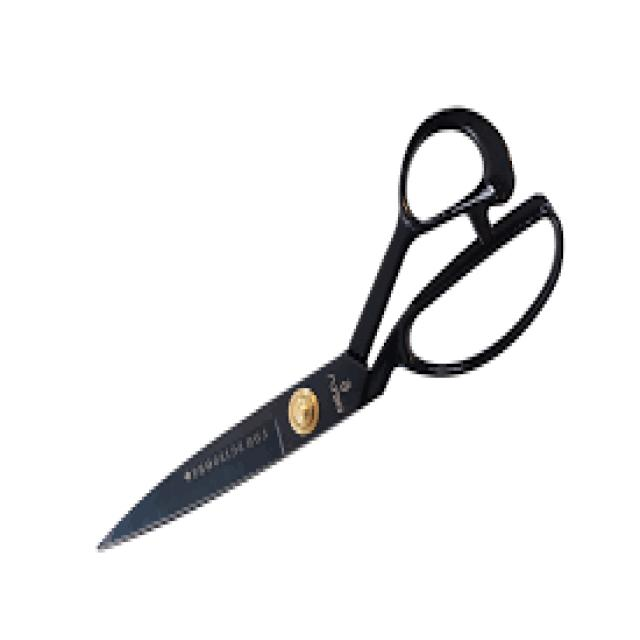scissor: (100, 105, 566, 549)
